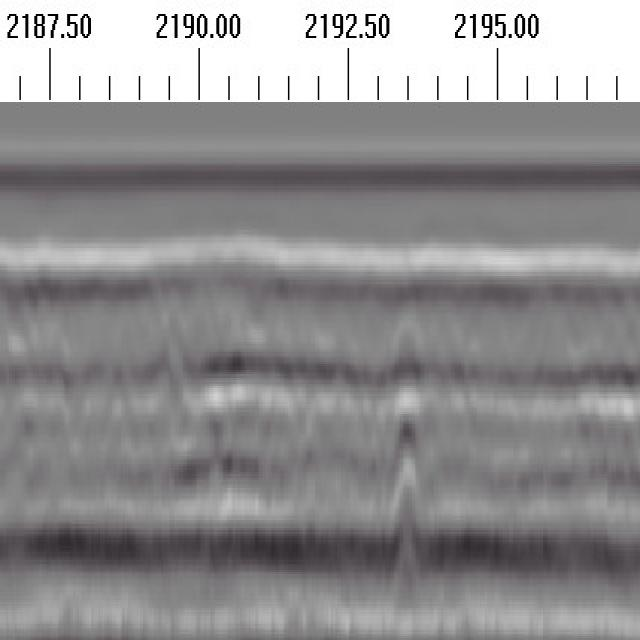crack: (391, 319, 421, 589)
